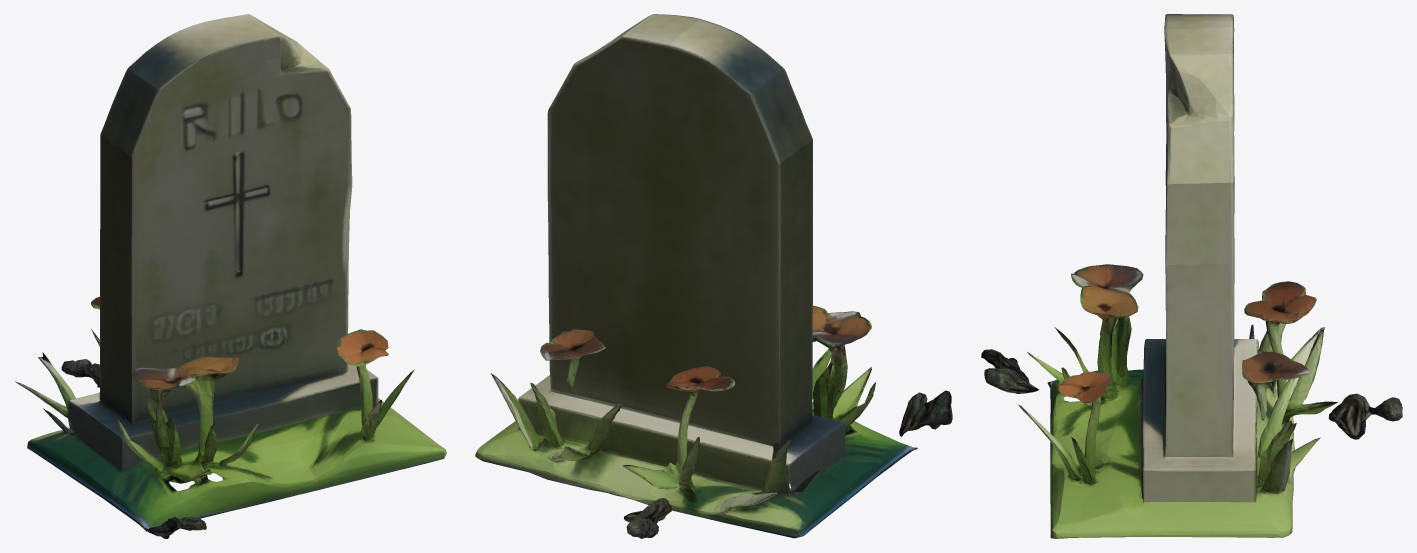
Rendered from grave_tombstone.glb.
3 renders of one model, left to right at view 1: azimuth 30°, elevation 25°; view 2: azimuth 150°, elevation 25°; view 3: azimuth 270°, elevation 25°, orthographic. The views are drawn at different scales.
Visible parts, largest first — view 1: world; view 2: world; view 3: world.
Part boxes in pixels (left/top/right/bottom): world: left=15, top=14, right=446, bottom=538; world: left=475, top=14, right=952, bottom=538; world: left=981, top=14, right=1402, bottom=538.
Size of the model in its own units: 0.506 by 0.6222 by 0.5485.
Materials: 1 (1 with a texture image).
